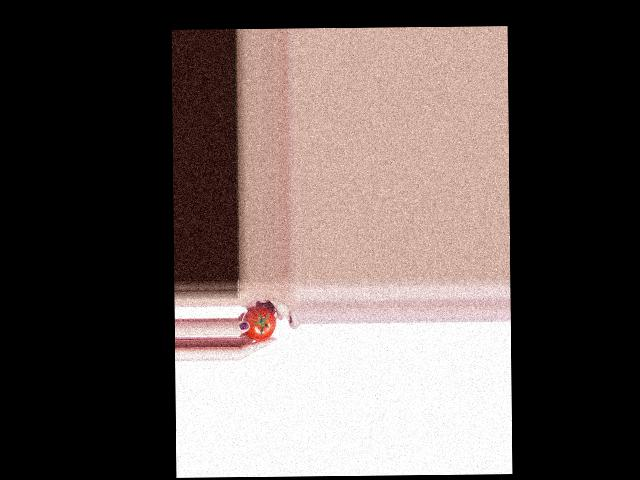tomato: (241, 306, 276, 342)
